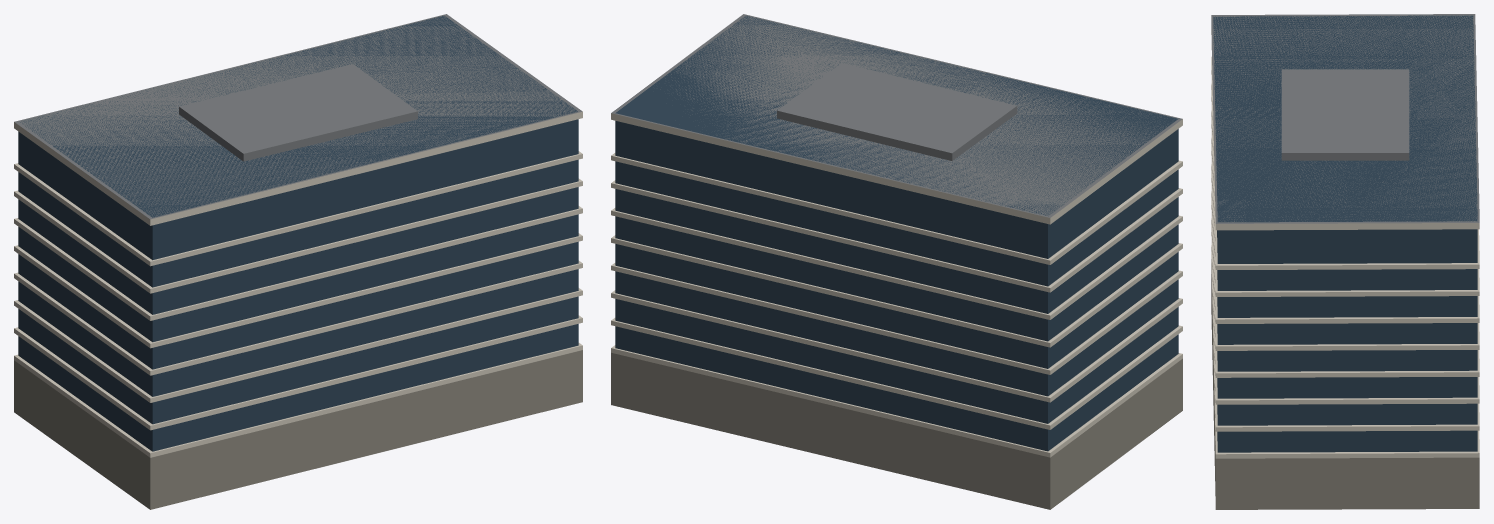
Rendered from 560_east_south_temple.glb.
3 renders of one model, left to right at view 1: azimuth 30°, elevation 25°; view 2: azimuth 150°, elevation 25°; view 3: azimuth 270°, elevation 25°, orthographic. The views are drawn at different scales.
Parts seen in each view (by area): view 1: 560_East_South_Temple; view 2: 560_East_South_Temple; view 3: 560_East_South_Temple.
Part boxes in pixels (<box>): 560_East_South_Temple: <box>14,14,582,509</box>; 560_East_South_Temple: <box>611,14,1182,509</box>; 560_East_South_Temple: <box>1211,14,1479,509</box>.
Size of the model in its own units: 70.22 by 45.8 by 37.96.
